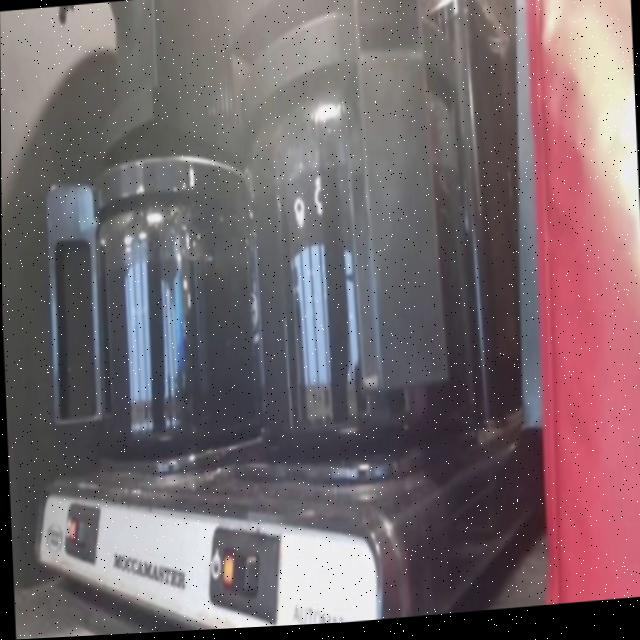coffee: (254, 133, 470, 448), (91, 217, 255, 458)
